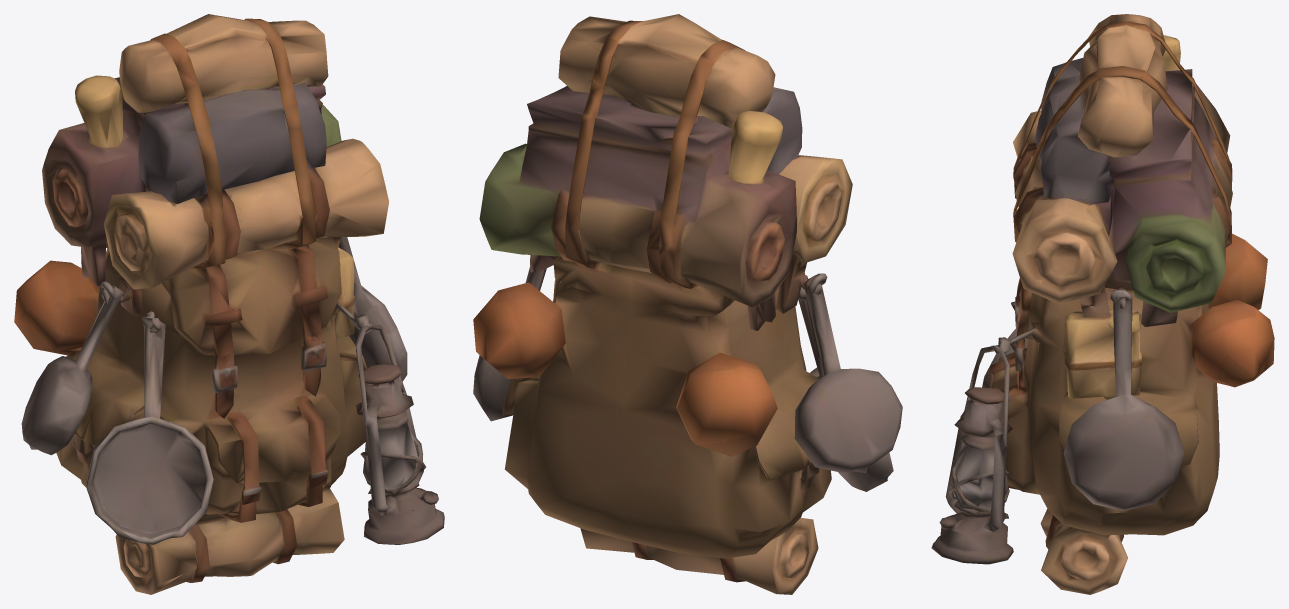
File: back_iw_pack_idle.glb
3 renders of one model, left to right at view 1: azimuth 30°, elevation 25°; view 2: azimuth 150°, elevation 25°; view 3: azimuth 270°, elevation 25°, orthographic. The views are drawn at different scales.
Parts seen in each view (by area): view 1: tripo_node_9efe148a-0b1a-4a7c-b23f-ea2978fd375c; view 2: tripo_node_9efe148a-0b1a-4a7c-b23f-ea2978fd375c; view 3: tripo_node_9efe148a-0b1a-4a7c-b23f-ea2978fd375c.
Part boxes in pixels (x1=…): tripo_node_9efe148a-0b1a-4a7c-b23f-ea2978fd375c: x1=14, y1=14, x2=444, y2=594; tripo_node_9efe148a-0b1a-4a7c-b23f-ea2978fd375c: x1=473, y1=14, x2=902, y2=594; tripo_node_9efe148a-0b1a-4a7c-b23f-ea2978fd375c: x1=931, y1=14, x2=1274, y2=594.
Bounding box in the file's own units: 0.6532 × 0.8999 × 0.5381.
1 material, 1 textured.
